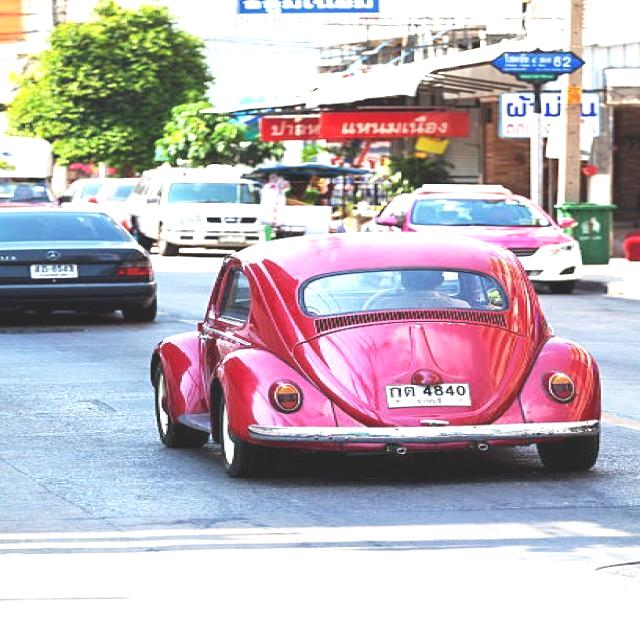car: (161, 233, 627, 478), (1, 217, 143, 324), (129, 178, 274, 257)
